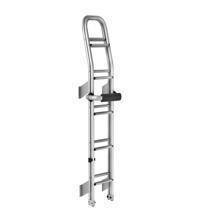Feet: (0, 58, 218, 190)
